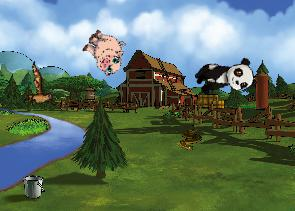eagle: (10, 61, 68, 119)
panda: (192, 56, 257, 98)
pig: (76, 24, 132, 79)
